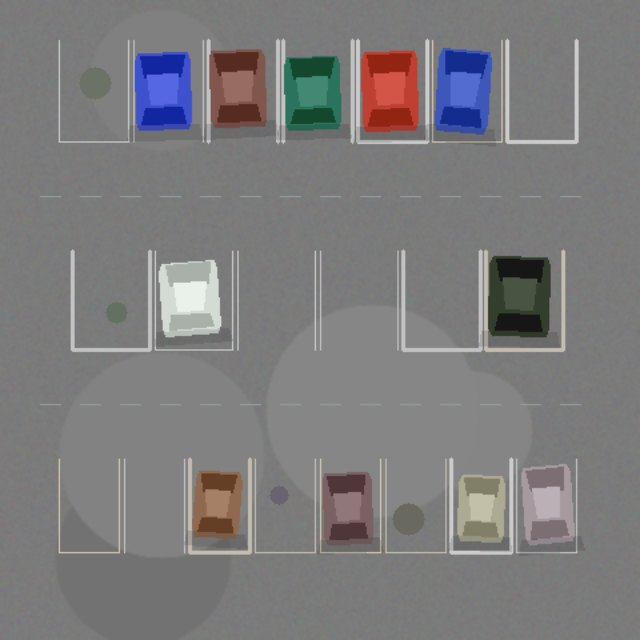space-empty: (237, 251, 315, 349), (72, 251, 149, 349), (320, 251, 397, 349), (403, 251, 480, 349), (59, 40, 128, 141), (507, 40, 576, 141), (59, 459, 119, 552), (124, 459, 184, 552), (255, 459, 315, 552), (385, 459, 445, 552)
space-occupied: (485, 251, 563, 349), (155, 251, 232, 349), (133, 40, 203, 141), (357, 40, 427, 141), (208, 40, 277, 141), (283, 40, 352, 141), (432, 40, 501, 141), (189, 459, 249, 552), (320, 459, 380, 552), (451, 459, 511, 552), (516, 459, 576, 552)
